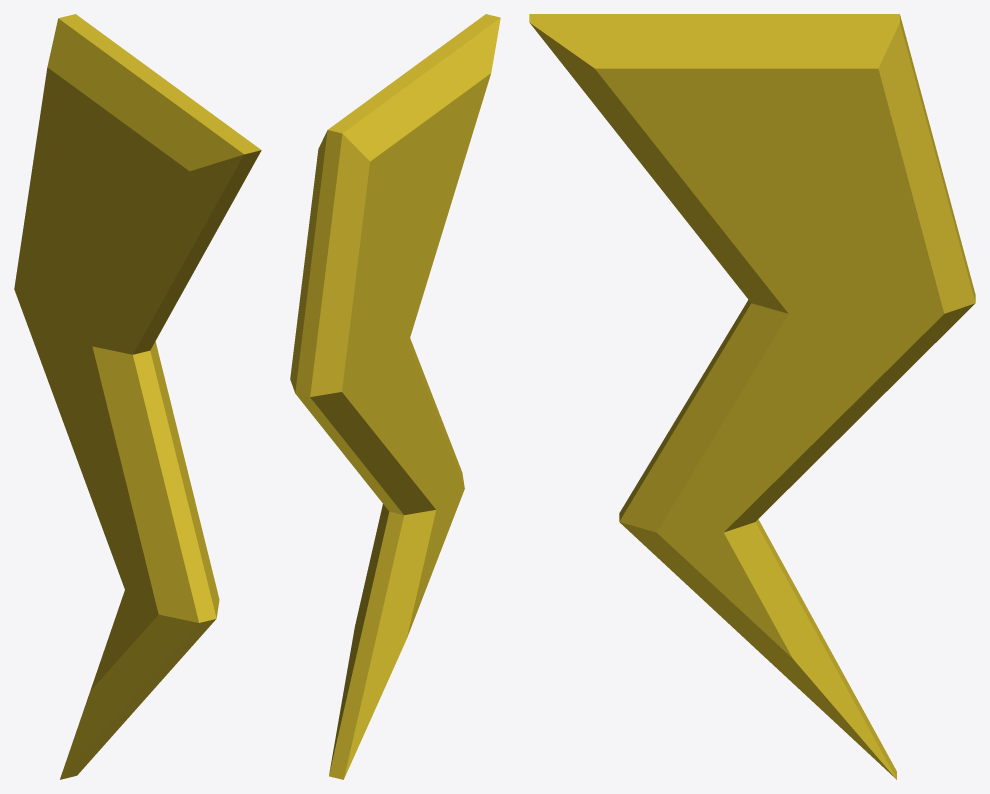
The model's file is thunder_model.glb.
The picture shows the model from 3 angles, left to right: view 1: azimuth 30°, elevation 25°; view 2: azimuth 150°, elevation 25°; view 3: azimuth 270°, elevation 25°; orthographic projection. The views are drawn at different scales.
Parts seen in each view (by area): view 1: Plane; view 2: Plane; view 3: Plane.
Boxes of the visible parts, bbox=[...] form: Plane: bbox=[14, 14, 261, 779]; Plane: bbox=[290, 14, 500, 779]; Plane: bbox=[529, 14, 975, 779].
Size of the model in its own units: 0.387 by 4.62 by 2.47.
